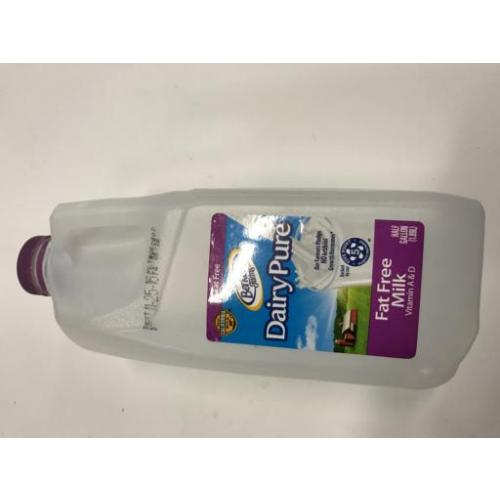plastic: (18, 190, 486, 387)
